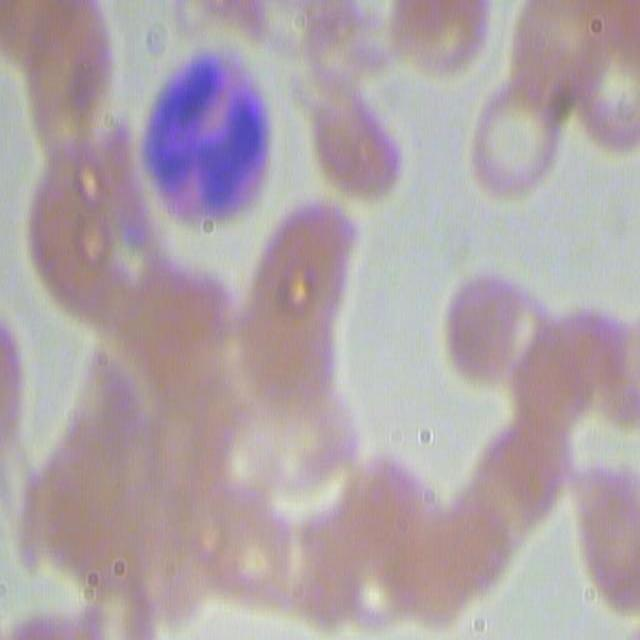RBC: (23, 143, 142, 326), (3, 0, 114, 187), (508, 0, 636, 156), (436, 263, 549, 390), (466, 77, 570, 209), (359, 0, 498, 87), (572, 466, 640, 611)
WBC: (130, 29, 271, 305)
